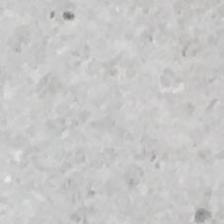Non_Crack: (13, 49, 198, 192)
